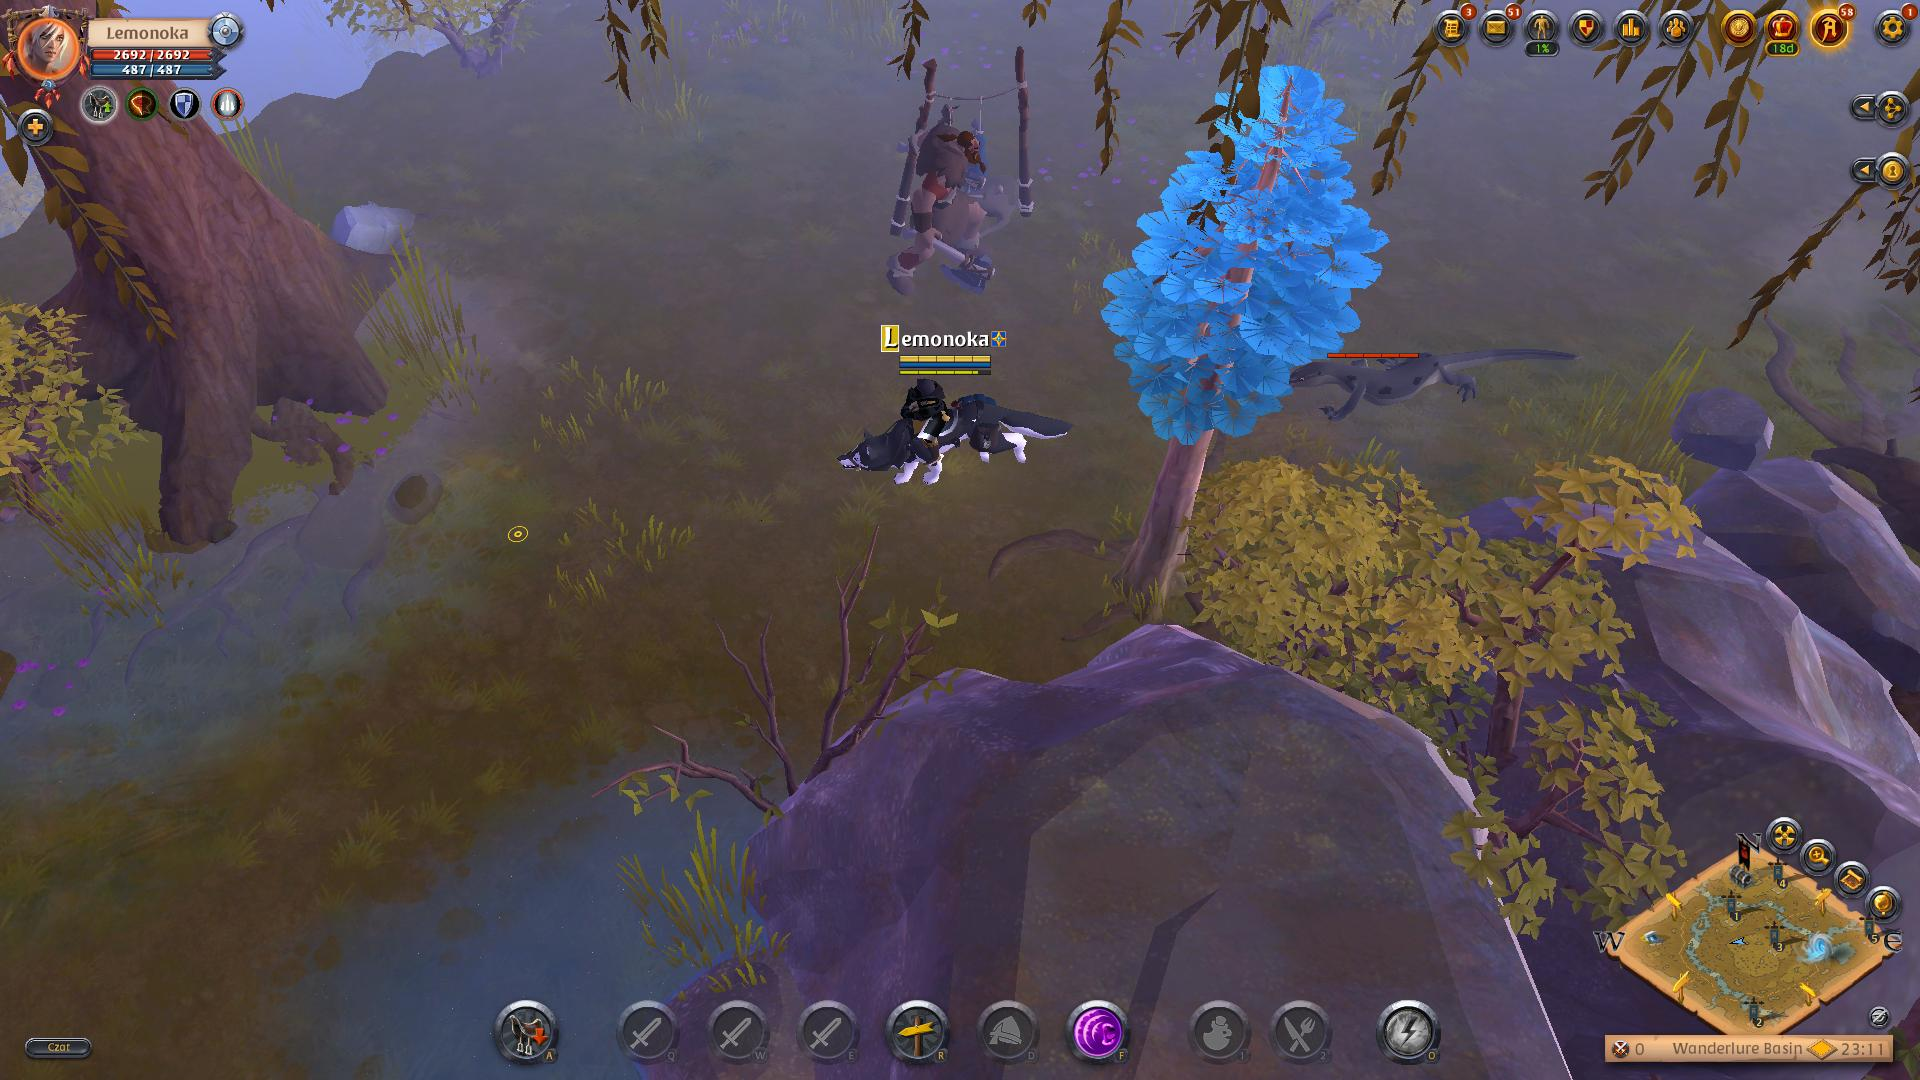wood tier 4: (1104, 58, 1394, 450)
